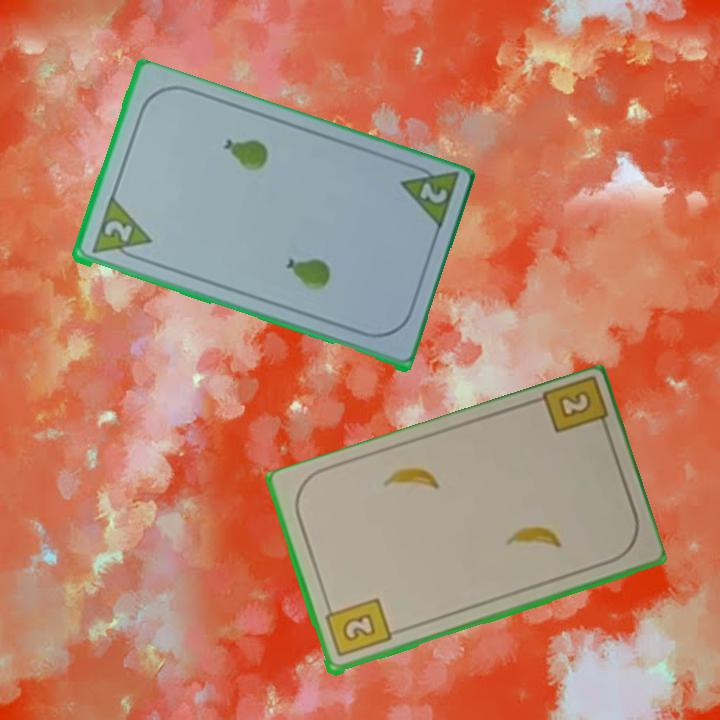2b: (536, 376, 613, 440), (321, 595, 394, 660)
2p: (87, 196, 154, 266), (415, 179, 450, 207)
